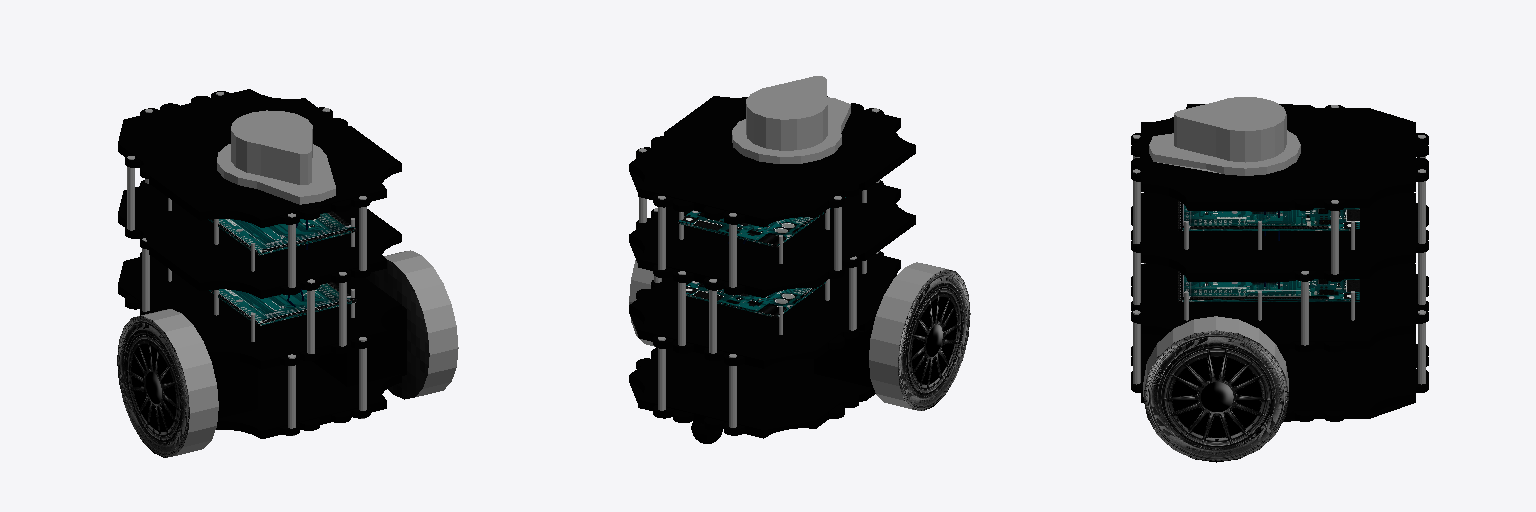
3 views of the same model, side by side, from view 1: azimuth 30°, elevation 25°; view 2: azimuth 150°, elevation 25°; view 3: azimuth 270°, elevation 25° (orthographic).
Visible parts, largest first — view 1: Box008, Box005, Box003, Cylinder013, Cylinder014, Box001, Cylinder032, Cylinder030, Box004, Box010, Cylinder031, Box009 (+1 smaller); view 2: Box008, Box005, Box003, Box001, Cylinder013, Cylinder032, Cylinder030, Cylinder031, Box002, Box010, Box009, Cylinder014; view 3: Box008, Cylinder014, Box005, Box003, Box001, Cylinder032, Cylinder030, Box009, Box010, Cylinder031.
Boxes of the visible parts, box(x1,y1,x2,y2) form: Box008: box(118, 89, 401, 227); Box005: box(118, 180, 401, 298); Box003: box(118, 252, 401, 369); Cylinder013: box(117, 309, 218, 457); Cylinder014: box(366, 250, 458, 399); Box001: box(216, 360, 401, 438); Cylinder032: box(231, 110, 312, 184); Cylinder030: box(127, 92, 366, 435); Box004: box(312, 306, 406, 386); Box010: box(208, 211, 356, 255); Cylinder031: box(217, 144, 335, 204); Box009: box(209, 282, 356, 325); Box008: box(629, 96, 915, 227); Box005: box(629, 180, 915, 297); Box003: box(629, 251, 900, 368); Box001: box(629, 347, 875, 438); Cylinder013: box(869, 262, 970, 410); Cylinder032: box(746, 76, 827, 150); Cylinder030: box(639, 108, 879, 427); Cylinder031: box(732, 97, 850, 163); Box002: box(814, 324, 874, 390); Box010: box(678, 197, 845, 247); Box009: box(686, 281, 825, 317); Cylinder014: box(629, 260, 654, 346); Box008: box(1131, 104, 1428, 210); Cylinder014: box(1143, 316, 1288, 462); Box005: box(1131, 193, 1428, 281); Box003: box(1131, 263, 1428, 352); Box001: box(1131, 334, 1428, 421); Cylinder032: box(1174, 97, 1286, 162); Cylinder030: box(1133, 105, 1425, 384); Box009: box(1178, 271, 1359, 301); Box010: box(1178, 200, 1359, 230); Cylinder031: box(1149, 130, 1300, 175).
Size of the model in its own units: 1.18 by 1.18 by 1.13.
Materials: 6 (2 with a texture image).